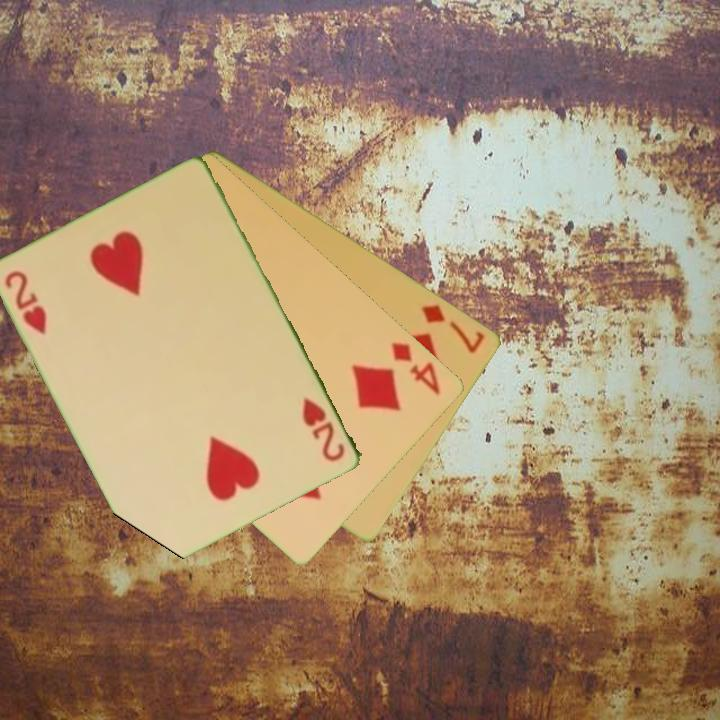2h: (299, 393, 349, 465), (1, 267, 51, 338)
4d: (388, 338, 445, 398)
7d: (418, 300, 489, 357)
